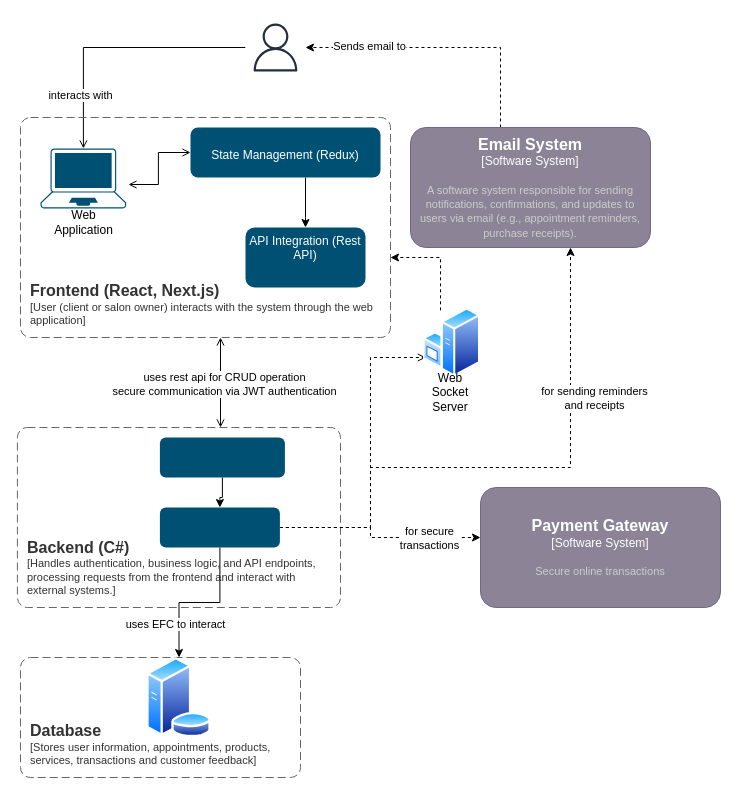
Some shapes in this 739 by 795 pixel diagram are drawn without their labels. The shapes that lost their labels are listed below. From the top down, each one's centre as x and y in pixels, then its label:
the point at 275,47: User
the point at 221,457: API Endpoints
the point at 219,527: Application
